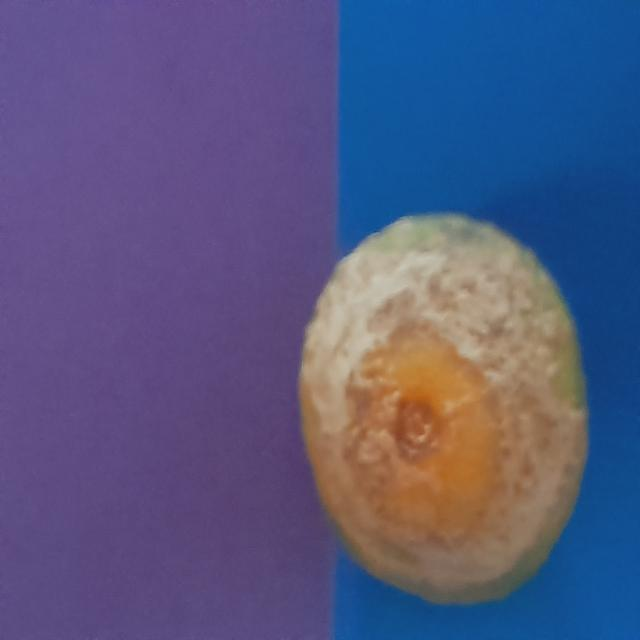thrips: (293, 207, 602, 619)
